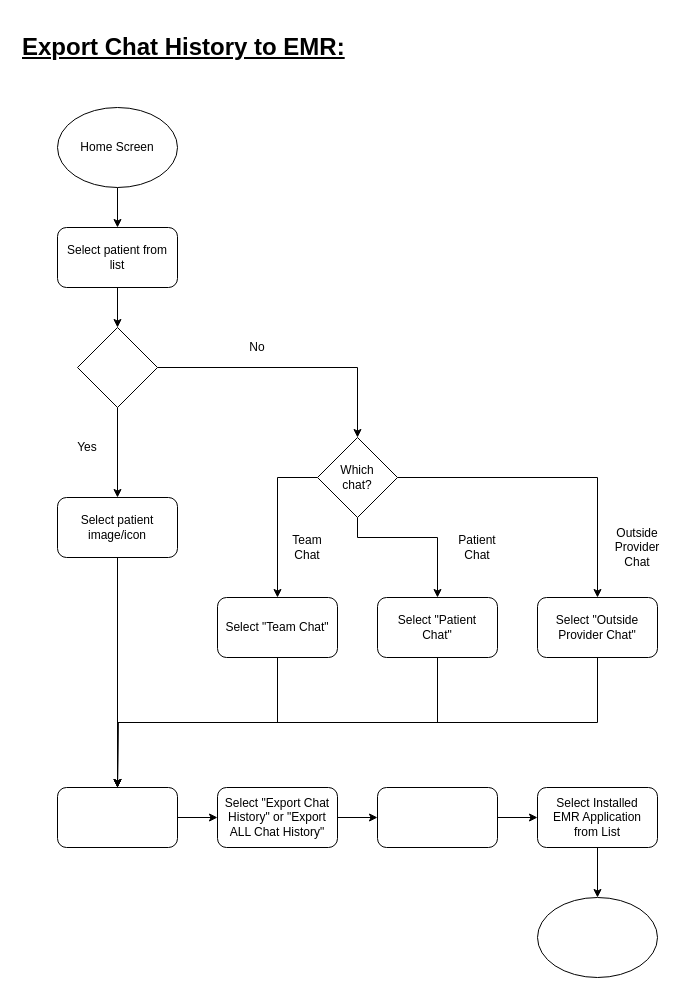
The diagram is 677 pixels wide and 995 high, and some of its shapes have lost their labels. The box of each missing label's shape, as (x1, y1, x2, y2) in pixels:
All chat history?: (76, 326, 158, 408)
Chat History Successfully Exported: (536, 896, 658, 978)
Select "EMR" icon from chat drawer: (56, 786, 178, 848)
Specify Date Range or Select "Full History": (376, 786, 498, 848)
